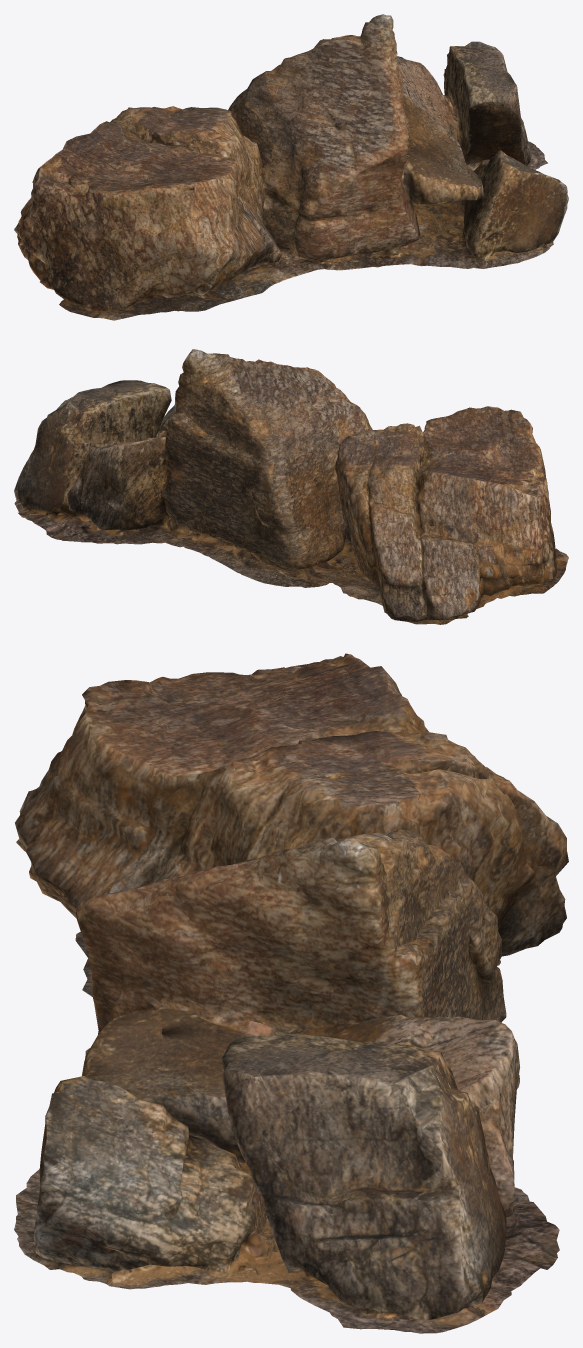
File: namaqualand_boulder_02_2k_lods.fbx
3 views of the same model, one above another, from view 1: azimuth 30°, elevation 25°; view 2: azimuth 150°, elevation 25°; view 3: azimuth 270°, elevation 25° (orthographic). The views are drawn at different scales.
Parts seen in each view (by area): view 1: namaqualand_boulder_02_LOD0.001; view 2: namaqualand_boulder_02_LOD0.001; view 3: namaqualand_boulder_02_LOD0.001.
Boxes of the visible parts, left/top/right/bottom form: namaqualand_boulder_02_LOD0.001: left=14, top=14, right=568, bottom=320; namaqualand_boulder_02_LOD0.001: left=14, top=349, right=568, bottom=624; namaqualand_boulder_02_LOD0.001: left=14, top=653, right=568, bottom=1333.
Size of what is drawn, in the model's own units: 253 by 87.86 by 123.
